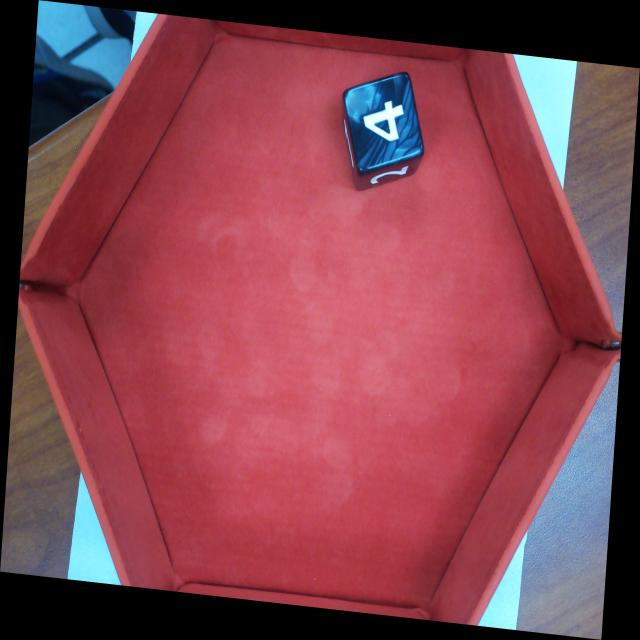dice: (342, 72, 426, 173)
